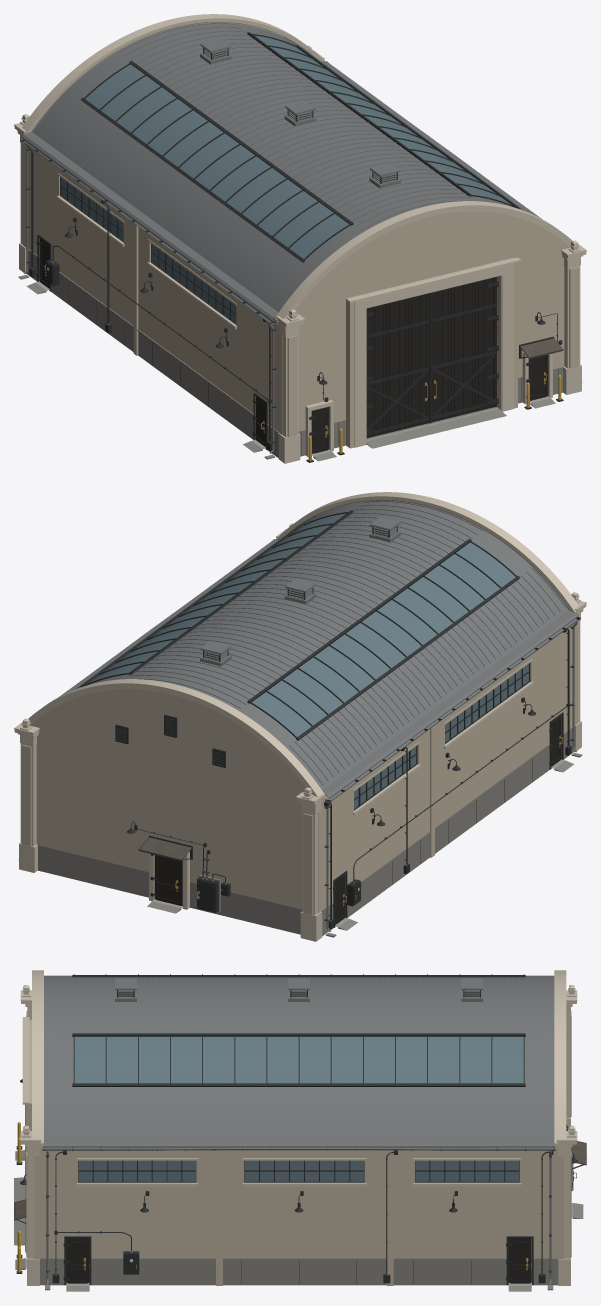
File: Stage1_CleanCandidate_A.fbx
3 renders of one model, top to bottom at view 1: azimuth 30°, elevation 25°; view 2: azimuth 150°, elevation 25°; view 3: azimuth 270°, elevation 25°, orthographic. The views are drawn at different scales.
Visible parts, largest first — view 1: Export_ExteriorWalls, Export_Roof, Export_MasonryFraming, Export_RoofGlazing, Export_RoofSeams, Export_MainDoorRight, Export_MainDoorLeft, Export_PersonnelDoors, Export_WindowGlass, Export_PermanentServices, Export_Rainwater, Export_RoofVents (+2 smaller); view 2: Export_ExteriorWalls, Export_Roof, Export_RoofGlazing, Export_MasonryFraming, Export_RoofSeams, Export_PermanentServices, Export_PersonnelDoors, Export_WindowGlass, Export_Rainwater, Export_RoofVents, Export_Clerestory, Export_EntranceCanopies (+1 smaller); view 3: Export_ExteriorWalls, Export_Roof, Export_RoofGlazing, Export_MasonryFraming, Export_RoofSeams, Export_WindowGlass, Export_Rainwater, Export_PersonnelDoors, Export_Clerestory, Export_PermanentServices, Export_RoofVents, Export_EntranceCanopies.
Part boxes in pixels (<box>): Export_ExteriorWalls: <box>23,146,569,457</box>; Export_Roof: <box>32,23,512,309</box>; Export_MasonryFraming: <box>14,14,586,463</box>; Export_RoofGlazing: <box>80,32,520,262</box>; Export_RoofSeams: <box>22,22,541,320</box>; Export_MainDoorRight: <box>429,276,498,423</box>; Export_MainDoorLeft: <box>366,293,429,438</box>; Export_PersonnelDoors: <box>35,234,550,455</box>; Export_WindowGlass: <box>61,178,236,322</box>; Export_PermanentServices: <box>25,145,562,451</box>; Export_Rainwater: <box>18,135,582,459</box>; Export_RoofVents: <box>200,39,400,188</box>; Export_ExteriorWalls: <box>31,623,577,935</box>; Export_Roof: <box>88,501,568,787</box>; Export_RoofGlazing: <box>80,510,520,740</box>; Export_MasonryFraming: <box>14,492,586,941</box>; Export_RoofSeams: <box>59,500,578,798</box>; Export_PermanentServices: <box>135,628,571,929</box>; Export_PersonnelDoors: <box>150,712,565,927</box>; Export_WindowGlass: <box>354,664,528,808</box>; Export_Rainwater: <box>18,613,582,937</box>; Export_RoofVents: <box>200,517,400,666</box>; Export_Clerestory: <box>354,663,530,810</box>; Export_EntranceCanopies: <box>138,835,192,861</box>; Export_ExteriorWalls: <box>34,1147,563,1285</box>; Export_Roof: <box>44,975,554,1135</box>; Export_RoofGlazing: <box>72,974,525,1086</box>; Export_MasonryFraming: <box>14,970,583,1291</box>; Export_RoofSeams: <box>44,976,554,1147</box>; Export_WindowGlass: <box>79,1160,518,1181</box>; Export_Rainwater: <box>42,1147,555,1290</box>; Export_PersonnelDoors: <box>25,1181,572,1285</box>; Export_Clerestory: <box>78,1160,519,1182</box>; Export_PermanentServices: <box>52,1124,576,1283</box>; Export_RoofVents: <box>115,978,483,1001</box>; Export_EntranceCanopies: <box>14,1141,586,1223</box>.
Size of the model in its own units: 17.16 by 11.43 by 25.98.
